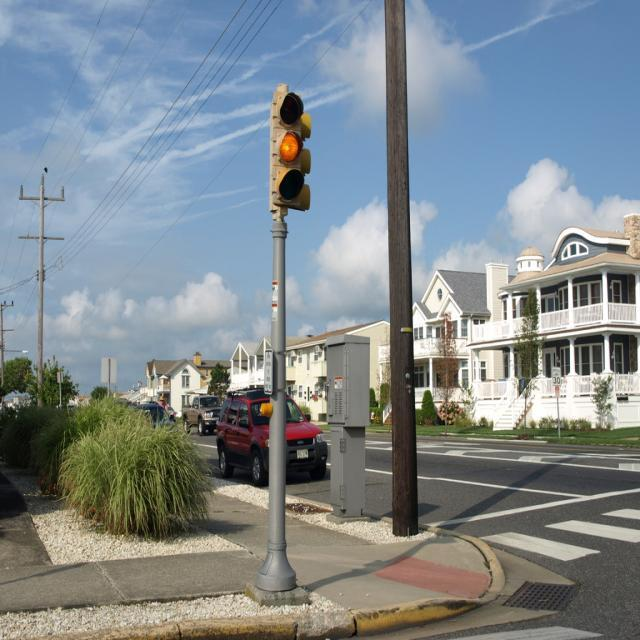traffic light: (268, 78, 307, 214)
